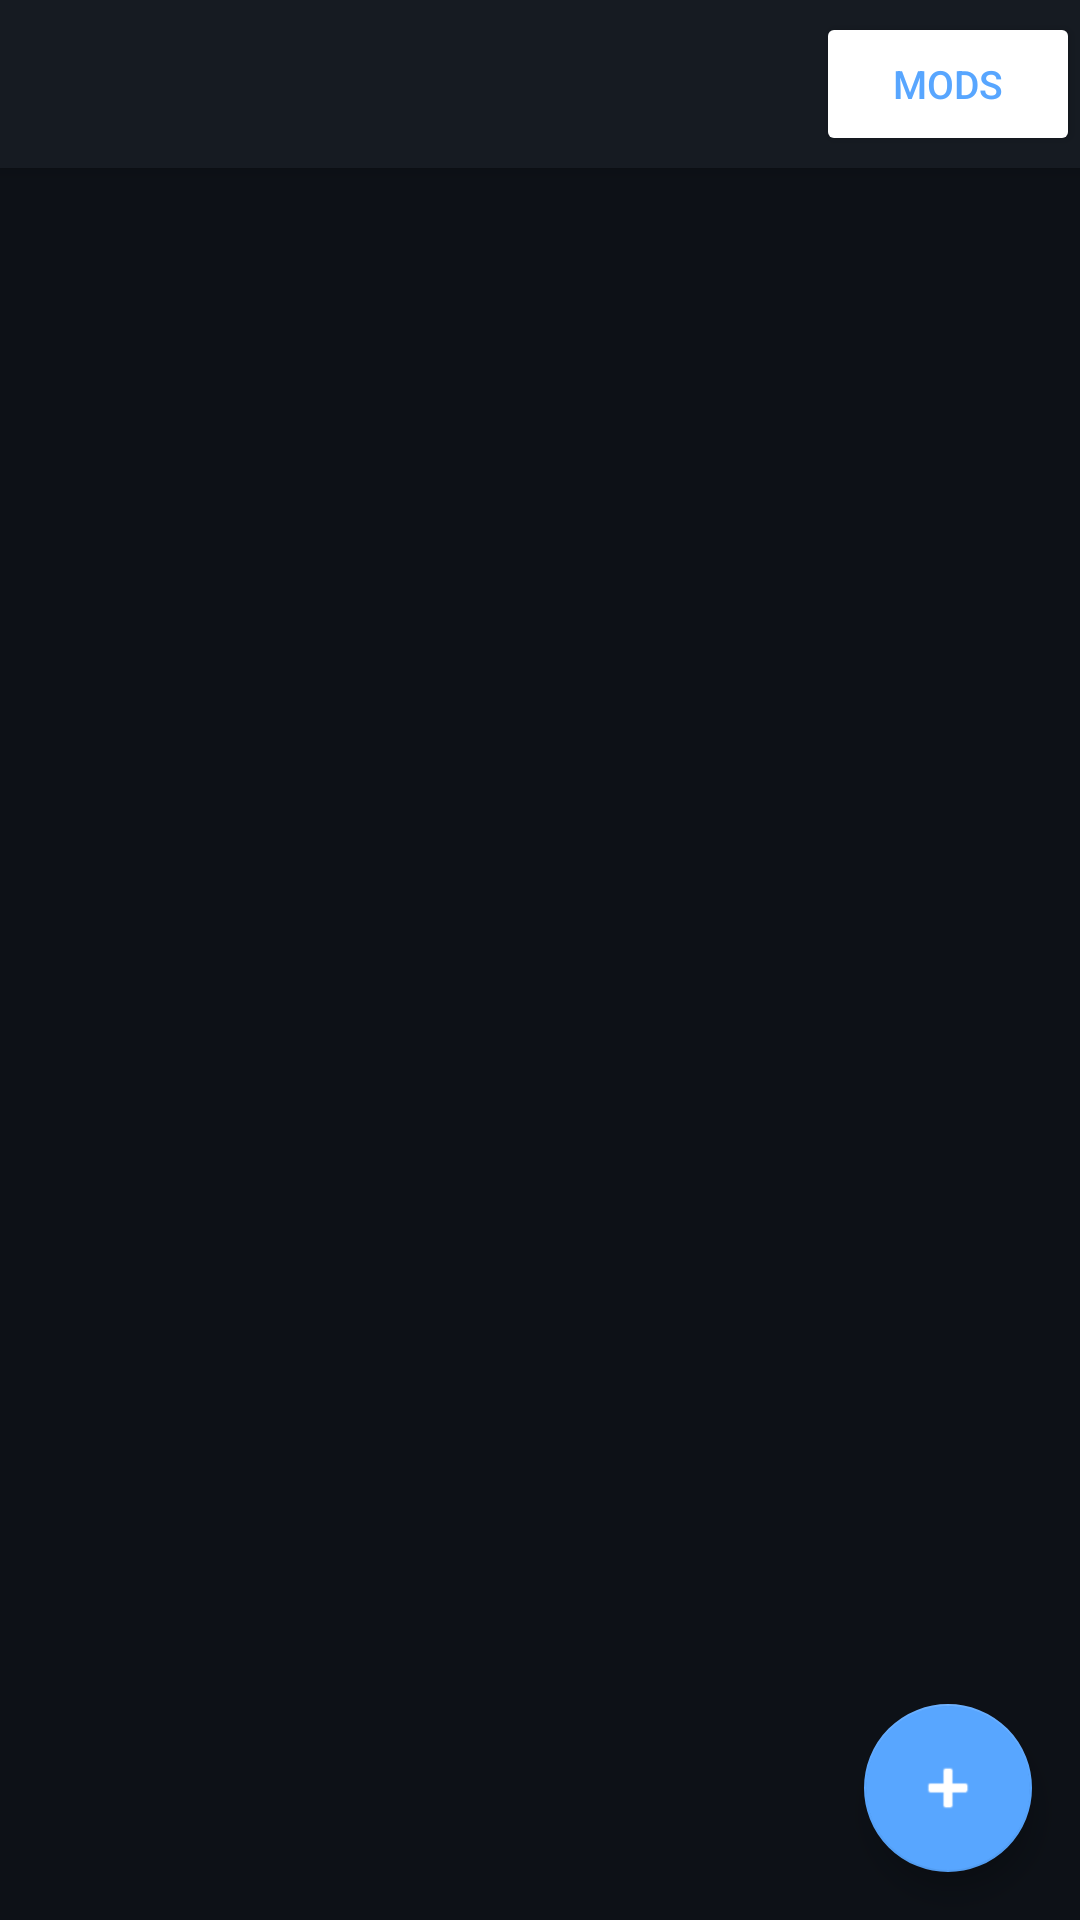

Where to tap for icons on this 1080 x 1920 app screen, as point (x, y):
New Instance: point (948, 1788)
